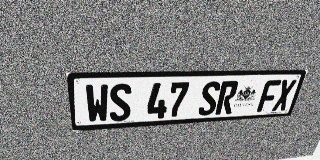4: (147, 82, 169, 119)
7: (166, 82, 190, 118)
F: (256, 80, 282, 112)
R: (215, 81, 239, 115)
S: (109, 83, 131, 122), (197, 81, 221, 116)
W: (85, 84, 109, 123)
X: (272, 79, 297, 111)
